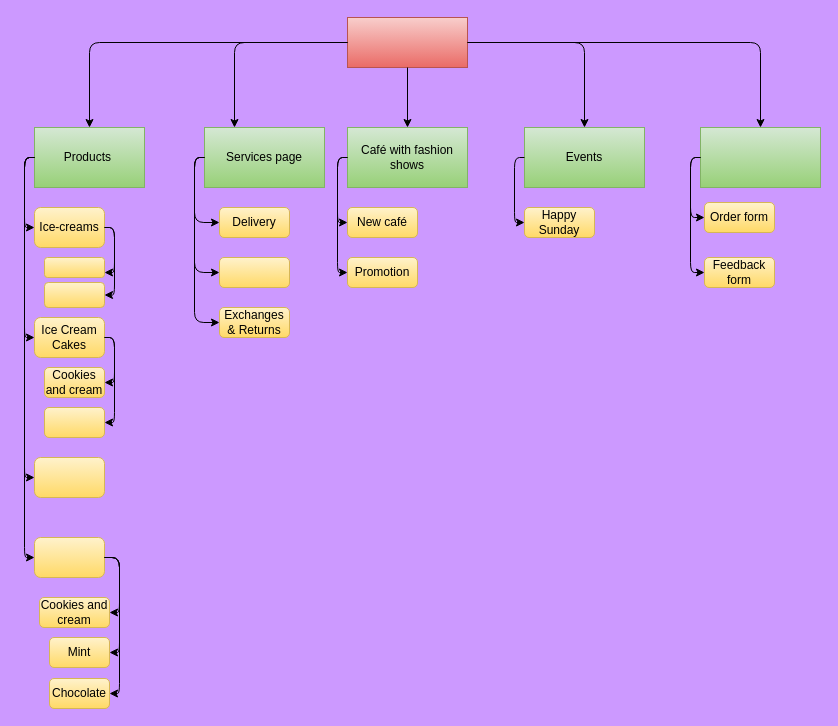
The diagram is 838 pixels wide and 726 high, and some of its shapes have lost their labels. The centre of each missing label's shape, as x and y in pixels:
Cones: the point at 74,295
Cups: the point at 74,267
Frozen Yogurts: the point at 69,477
Ice Cream Milkshakes: the point at 69,557
Index: the point at 407,42
Online form: the point at 760,157
Party planners: the point at 254,272
Vanilla: the point at 74,422
